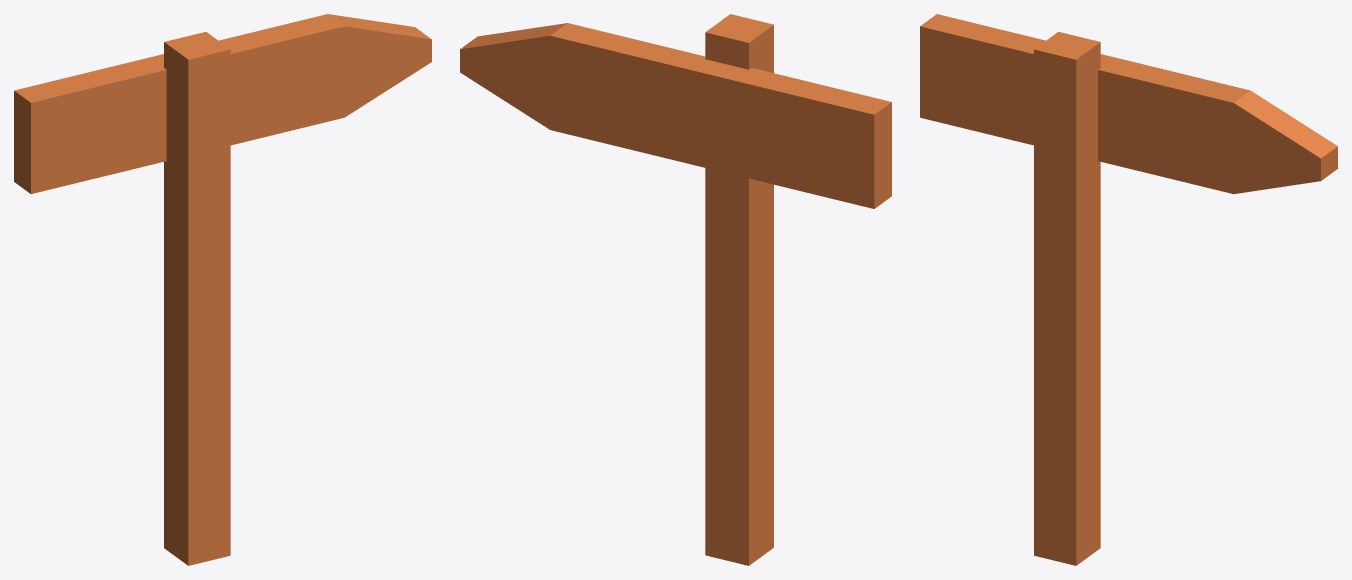
The model's file is Signpost.fbx.
The picture shows the model from 3 angles, left to right: view 1: azimuth 30°, elevation 25°; view 2: azimuth 150°, elevation 25°; view 3: azimuth 330°, elevation 25°; orthographic projection. The views are drawn at different scales.
Parts seen in each view (by area): view 1: Cube, Cube.001; view 2: Cube.001, Cube; view 3: Cube, Cube.001.
Boxes of the visible parts, x1,y1,x2,y2 form: Cube: (164, 32, 230, 565); Cube.001: (14, 14, 431, 193); Cube.001: (460, 23, 891, 208); Cube: (705, 14, 773, 565); Cube: (1034, 31, 1100, 565); Cube.001: (920, 14, 1337, 194).
Size of the model in its own units: 134 by 162 by 22.41.
